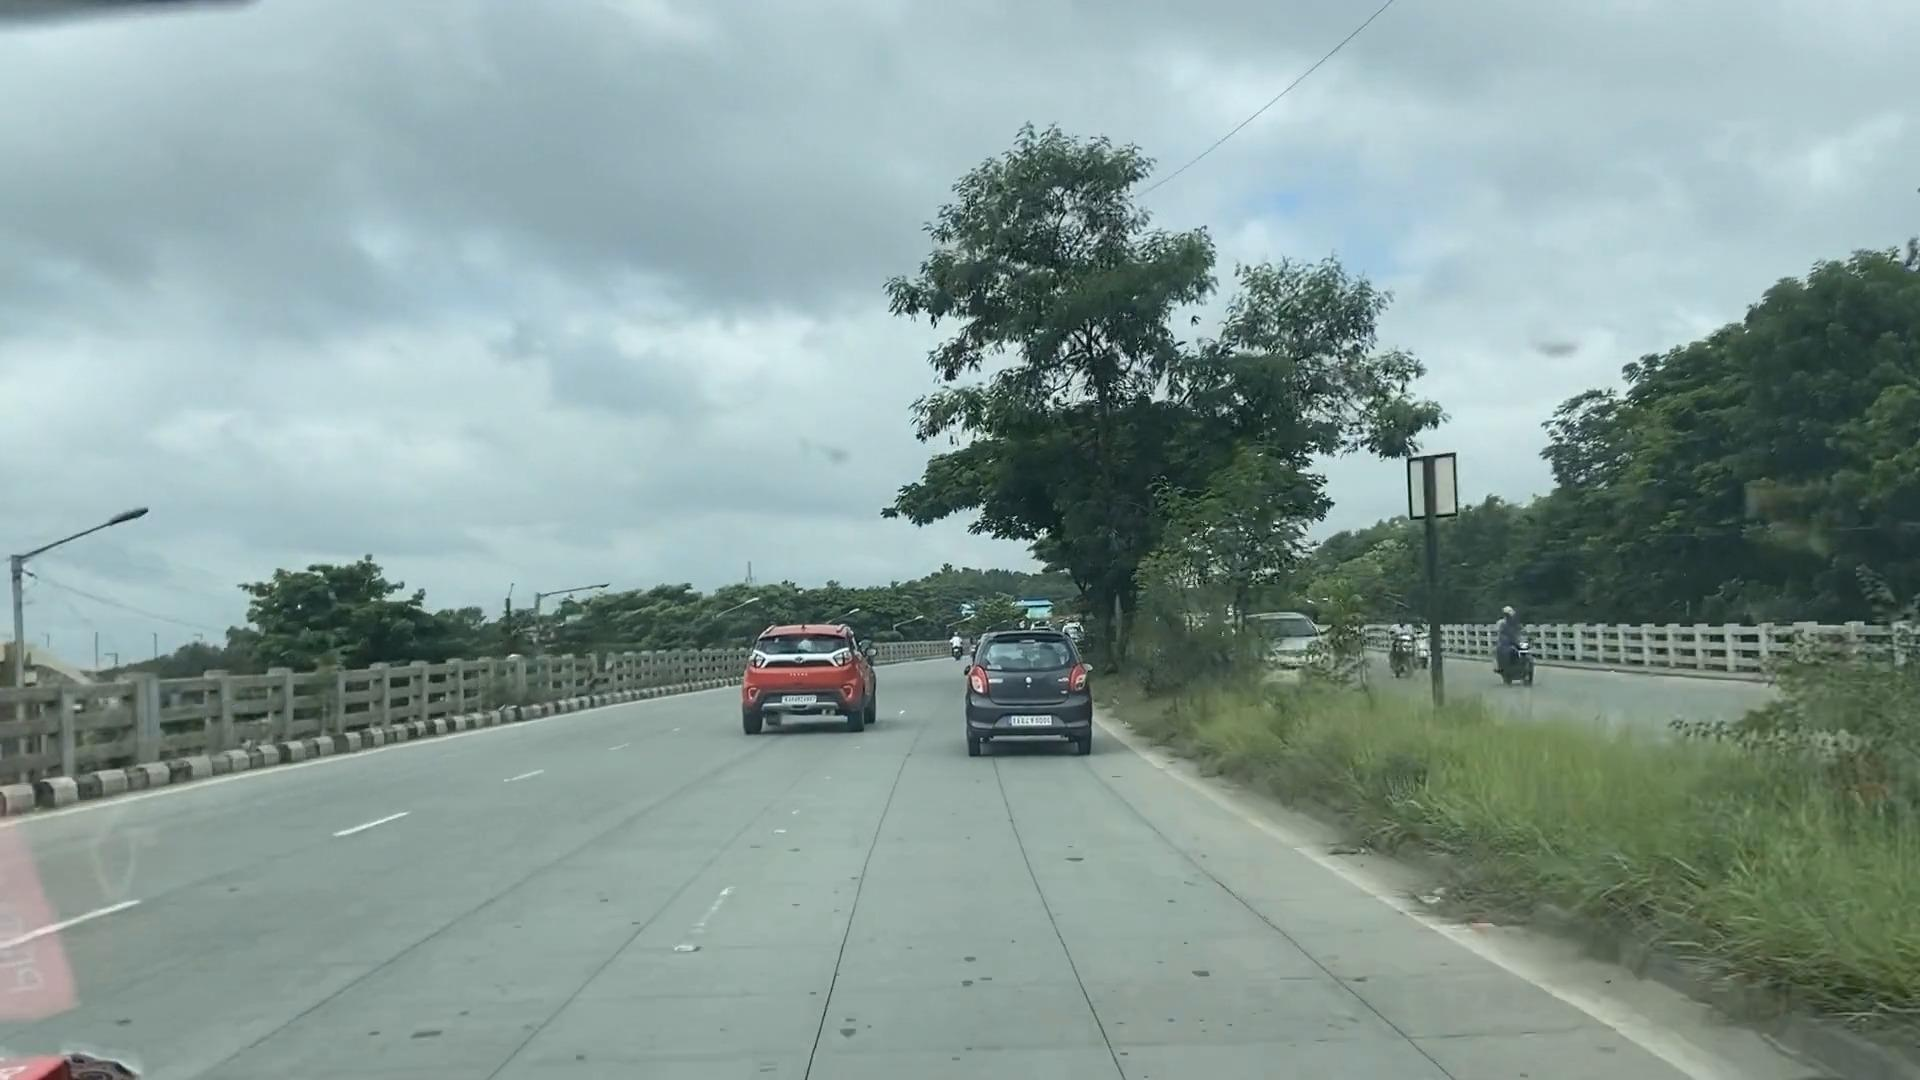LMV: (764, 620, 870, 724), (967, 638, 1077, 738)
